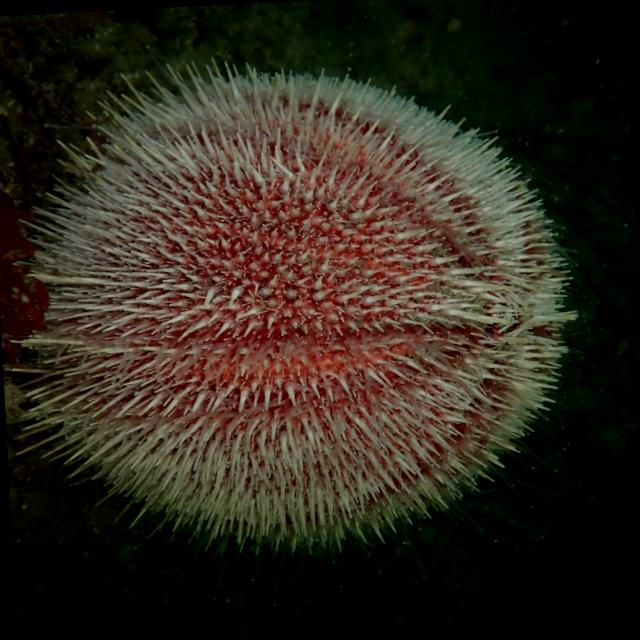Deniz Kestanesi: (0, 22, 593, 621)
